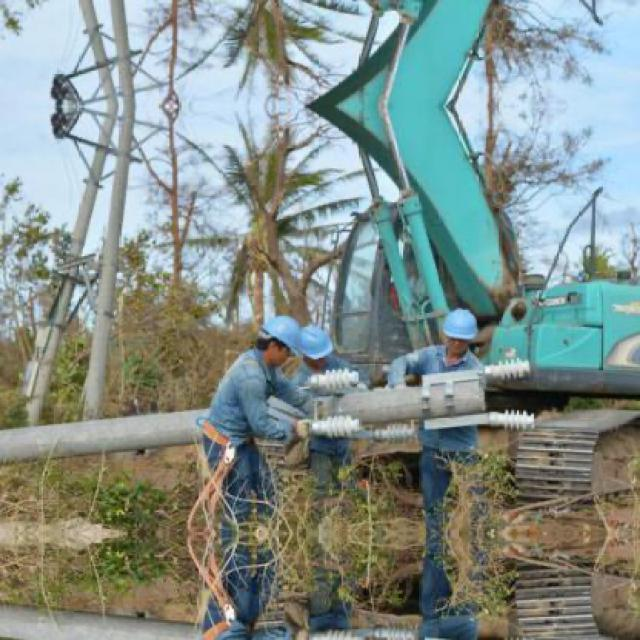helmet: (260, 316, 312, 369), (443, 306, 480, 354), (295, 319, 334, 361)
